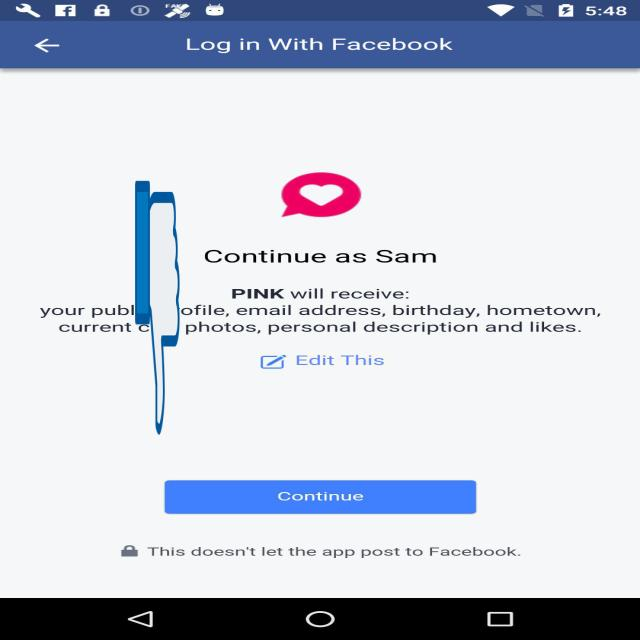obstruction: (135, 176, 180, 440)
